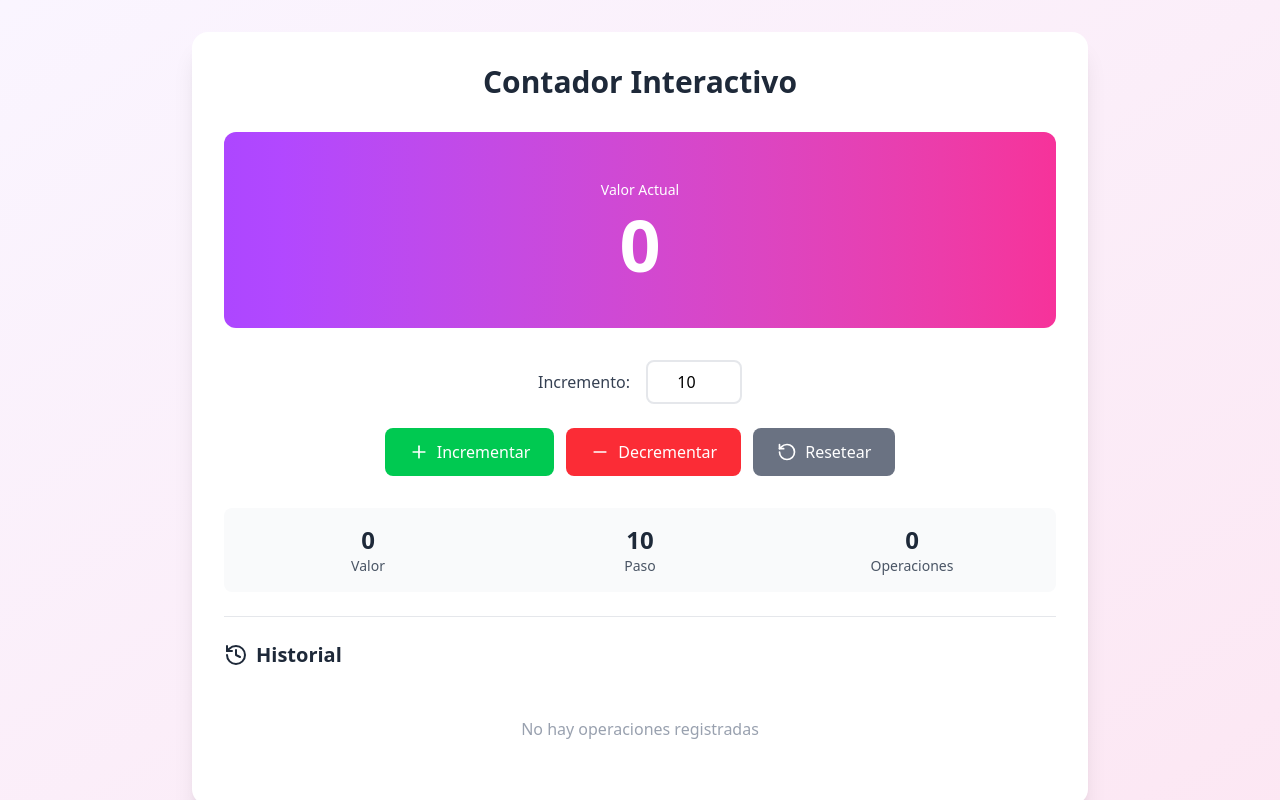
Test case: Bloque de pruebas para App de Counter › Funcionalidad de decremento › debe decrementar el contador en 1
The image size is (1280, 800).
Click the button labelled "Decrementar": (654, 452) [566,428,741,476]
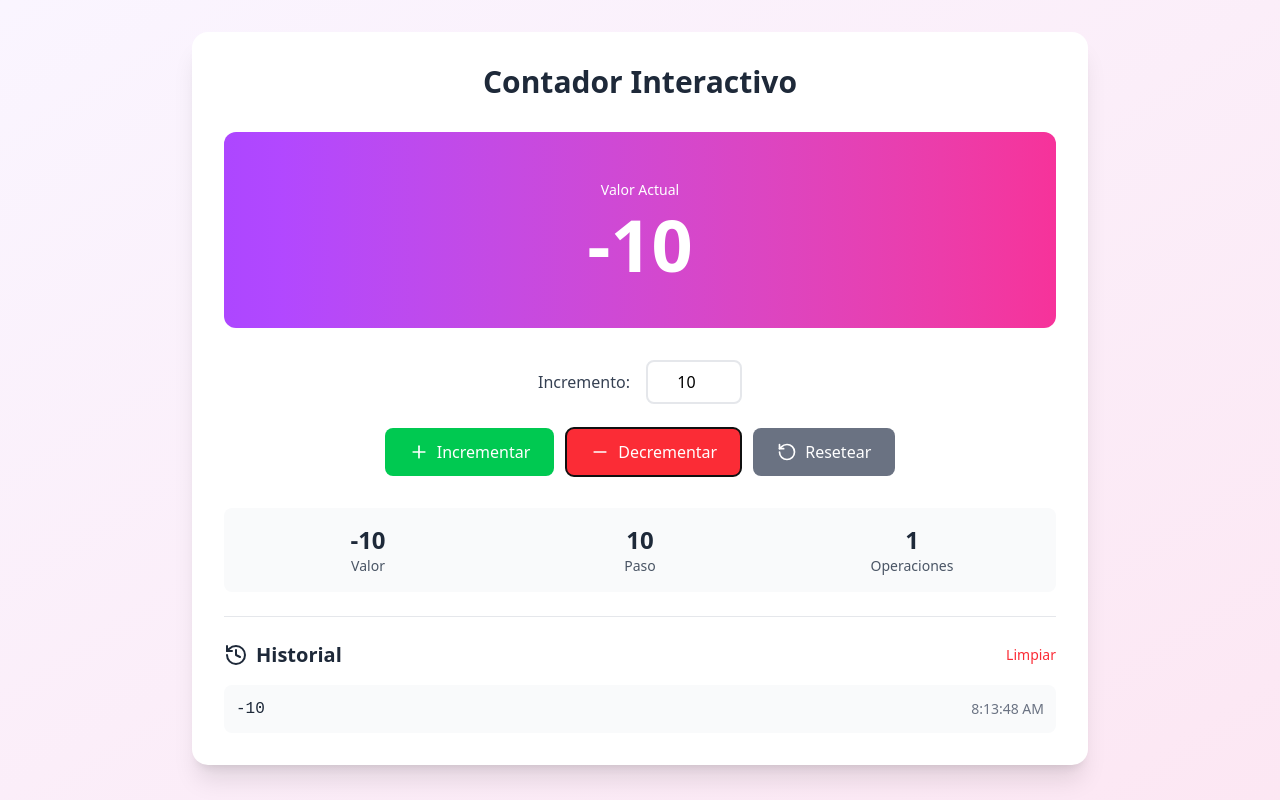
Check: the text with test id "counter-value" shows "-1", box [587,195,693,293]
